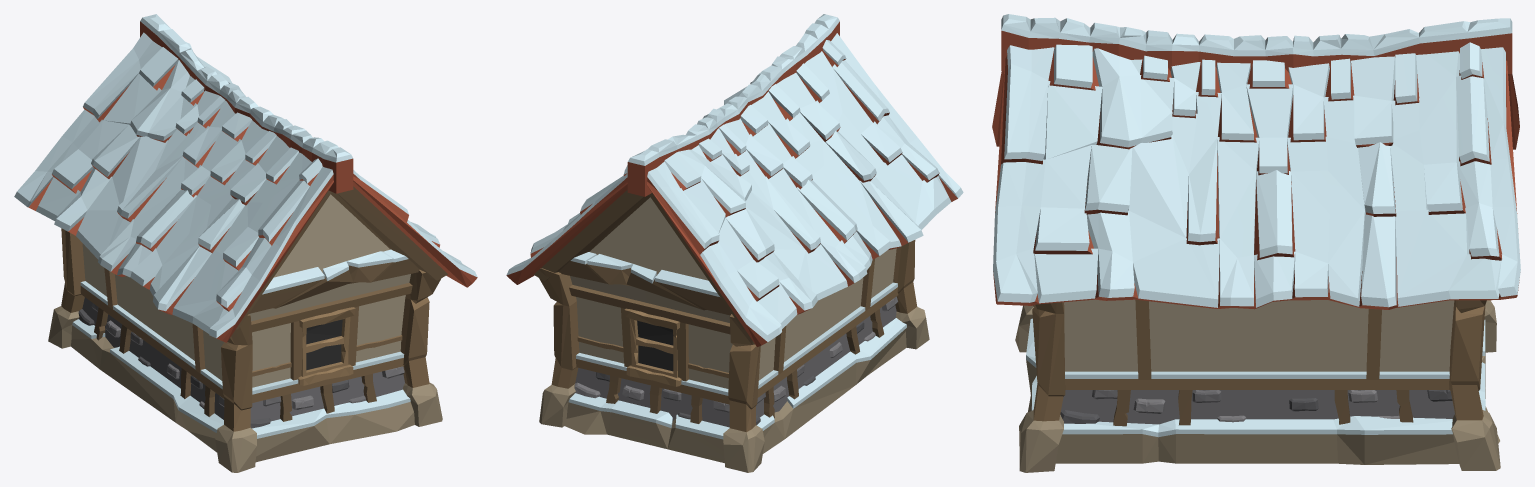
File: SM_Bld_House_Room_06_Snow.glb
3 renders of one model, left to right at view 1: azimuth 30°, elevation 25°; view 2: azimuth 150°, elevation 25°; view 3: azimuth 270°, elevation 25°, orthographic. The views are drawn at different scales.
Visible parts, largest first — view 1: SM_Bld_House_Room_06_Snow; view 2: SM_Bld_House_Room_06_Snow; view 3: SM_Bld_House_Room_06_Snow.
Part boxes in pixels (bbox=[...]): SM_Bld_House_Room_06_Snow: bbox=[14, 14, 477, 472]; SM_Bld_House_Room_06_Snow: bbox=[506, 14, 963, 472]; SM_Bld_House_Room_06_Snow: bbox=[992, 14, 1520, 472].
Size of the model in its own units: 5.04 by 5.16 by 6.38.
1 material, 1 textured.
